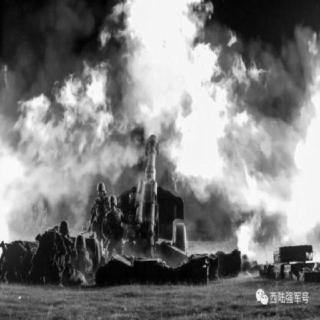Fire: (104, 5, 272, 181), (228, 23, 318, 270), (15, 63, 116, 163)
Smoke: (215, 7, 307, 116)
